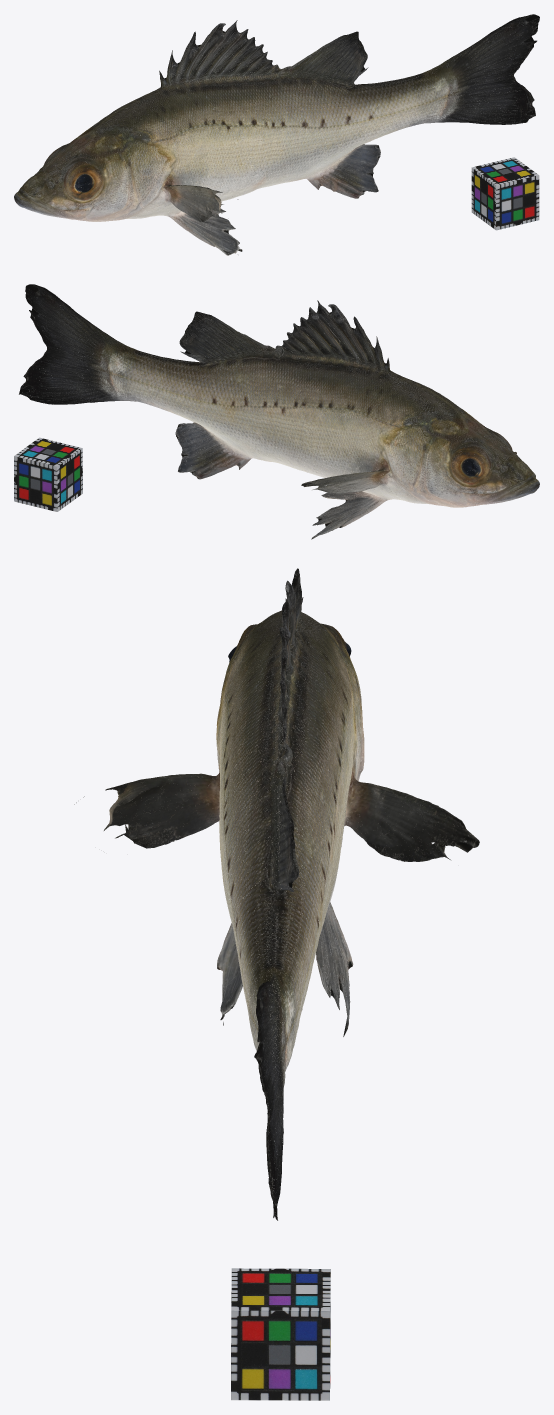
File: suzuki.glb
3 views of the same model, one above another, from view 1: azimuth 30°, elevation 25°; view 2: azimuth 150°, elevation 25°; view 3: azimuth 270°, elevation 25° (orthographic). The views are drawn at different scales.
Parts seen in each view (by area): view 1: Q11226-1all.001_5, Cube_2; view 2: Q11226-1all.001_5, Cube_2; view 3: Q11226-1all.001_5, Cube_2.
Boxes of the visible parts, left/top/right/bottom form: Q11226-1all.001_5: left=14, top=14, right=539, bottom=255; Cube_2: left=471, top=157, right=539, bottom=230; Q11226-1all.001_5: left=19, top=284, right=539, bottom=539; Cube_2: left=14, top=437, right=82, bottom=511; Q11226-1all.001_5: left=74, top=568, right=479, bottom=1220; Cube_2: left=231, top=1268, right=330, bottom=1400.
Bounding box in the file's own units: 10.17 × 4.91 × 3.46.
3 materials, 3 textured.
